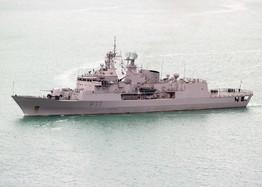warship: (10, 37, 256, 118)
